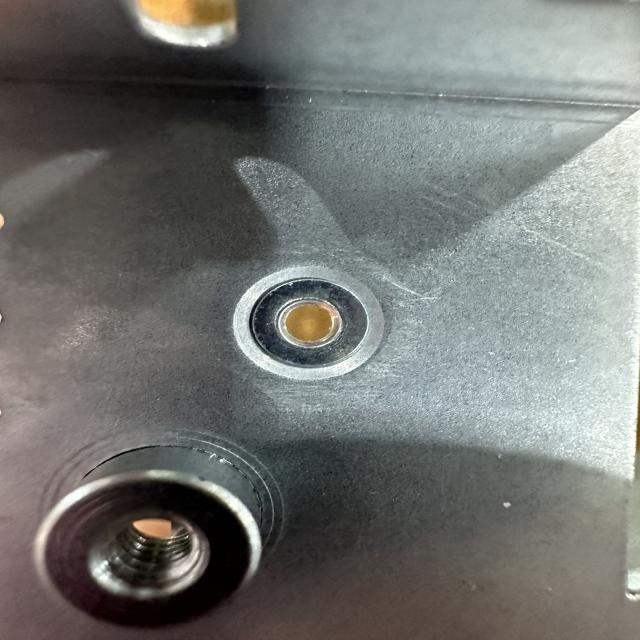Missing screw: (216, 256, 400, 388)
